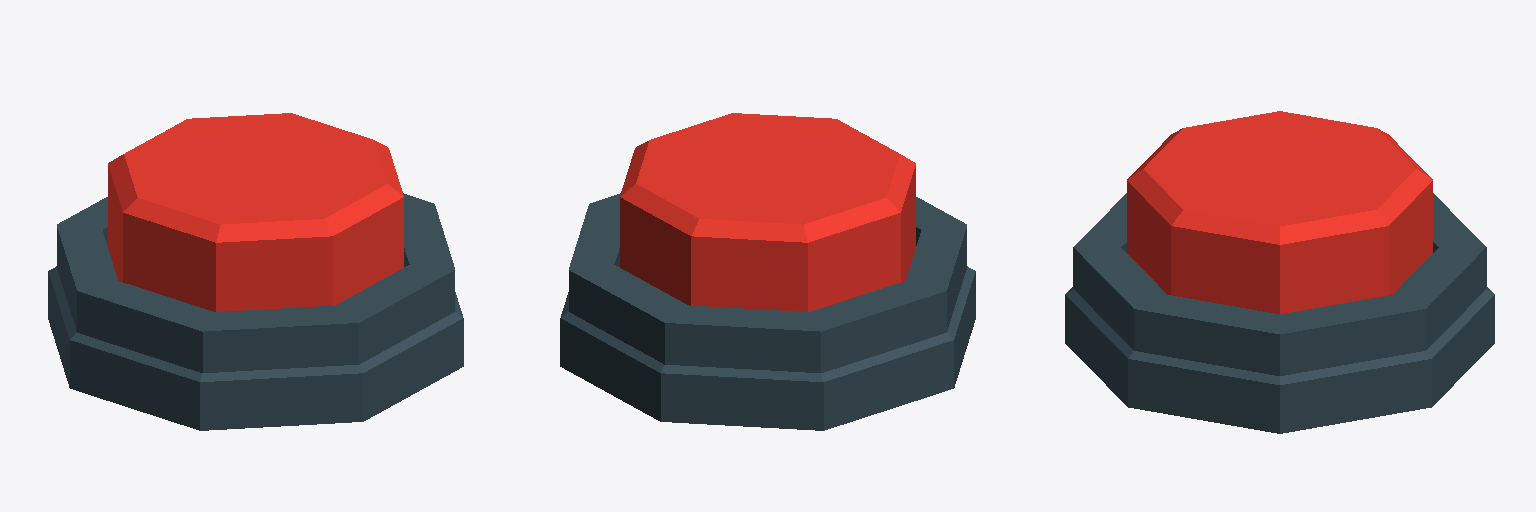
Rendered from Button_01.obj.
3 renders of one model, left to right at view 1: azimuth 30°, elevation 25°; view 2: azimuth 150°, elevation 25°; view 3: azimuth 270°, elevation 25°, orthographic.
Parts seen in each view (by area): view 1: Button_Circle; view 2: Button_Circle; view 3: Button_Circle.
Part boxes in pixels (x1,y1,x2,y2): Button_Circle: (48, 113, 463, 430); Button_Circle: (560, 113, 975, 430); Button_Circle: (1065, 111, 1494, 433).
Size of the model in its own units: 9.97 by 4.46 by 9.97.